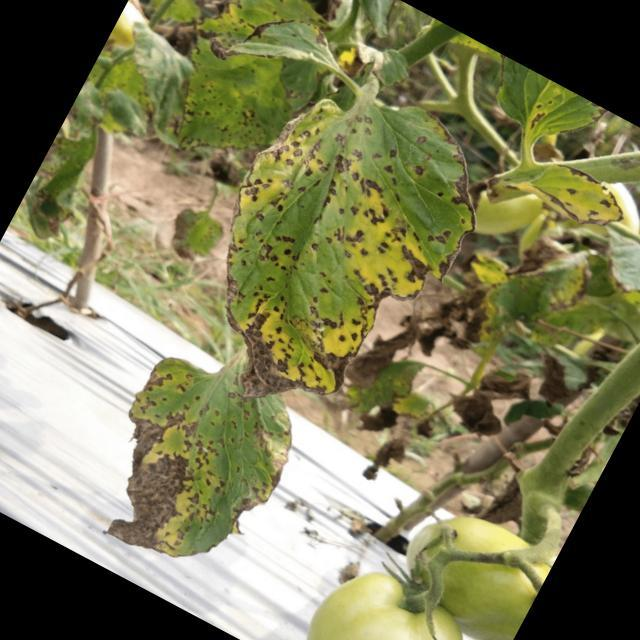Tomato bacterial spot leaf: (141, 36, 518, 458), (62, 321, 332, 604)
